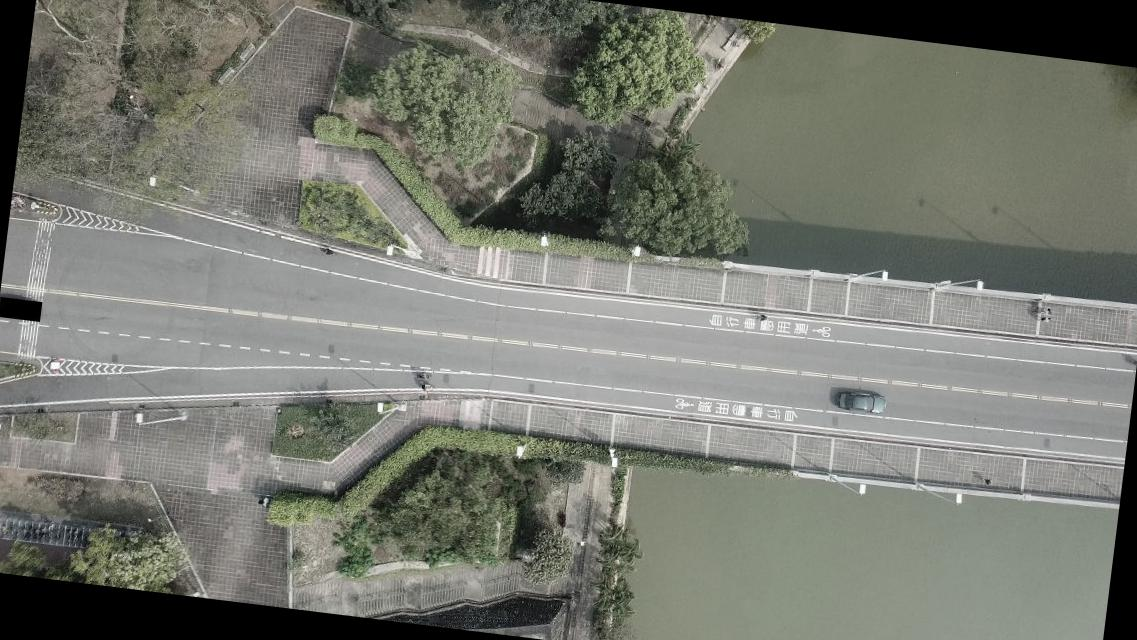vehicle: (836, 390, 886, 414)
